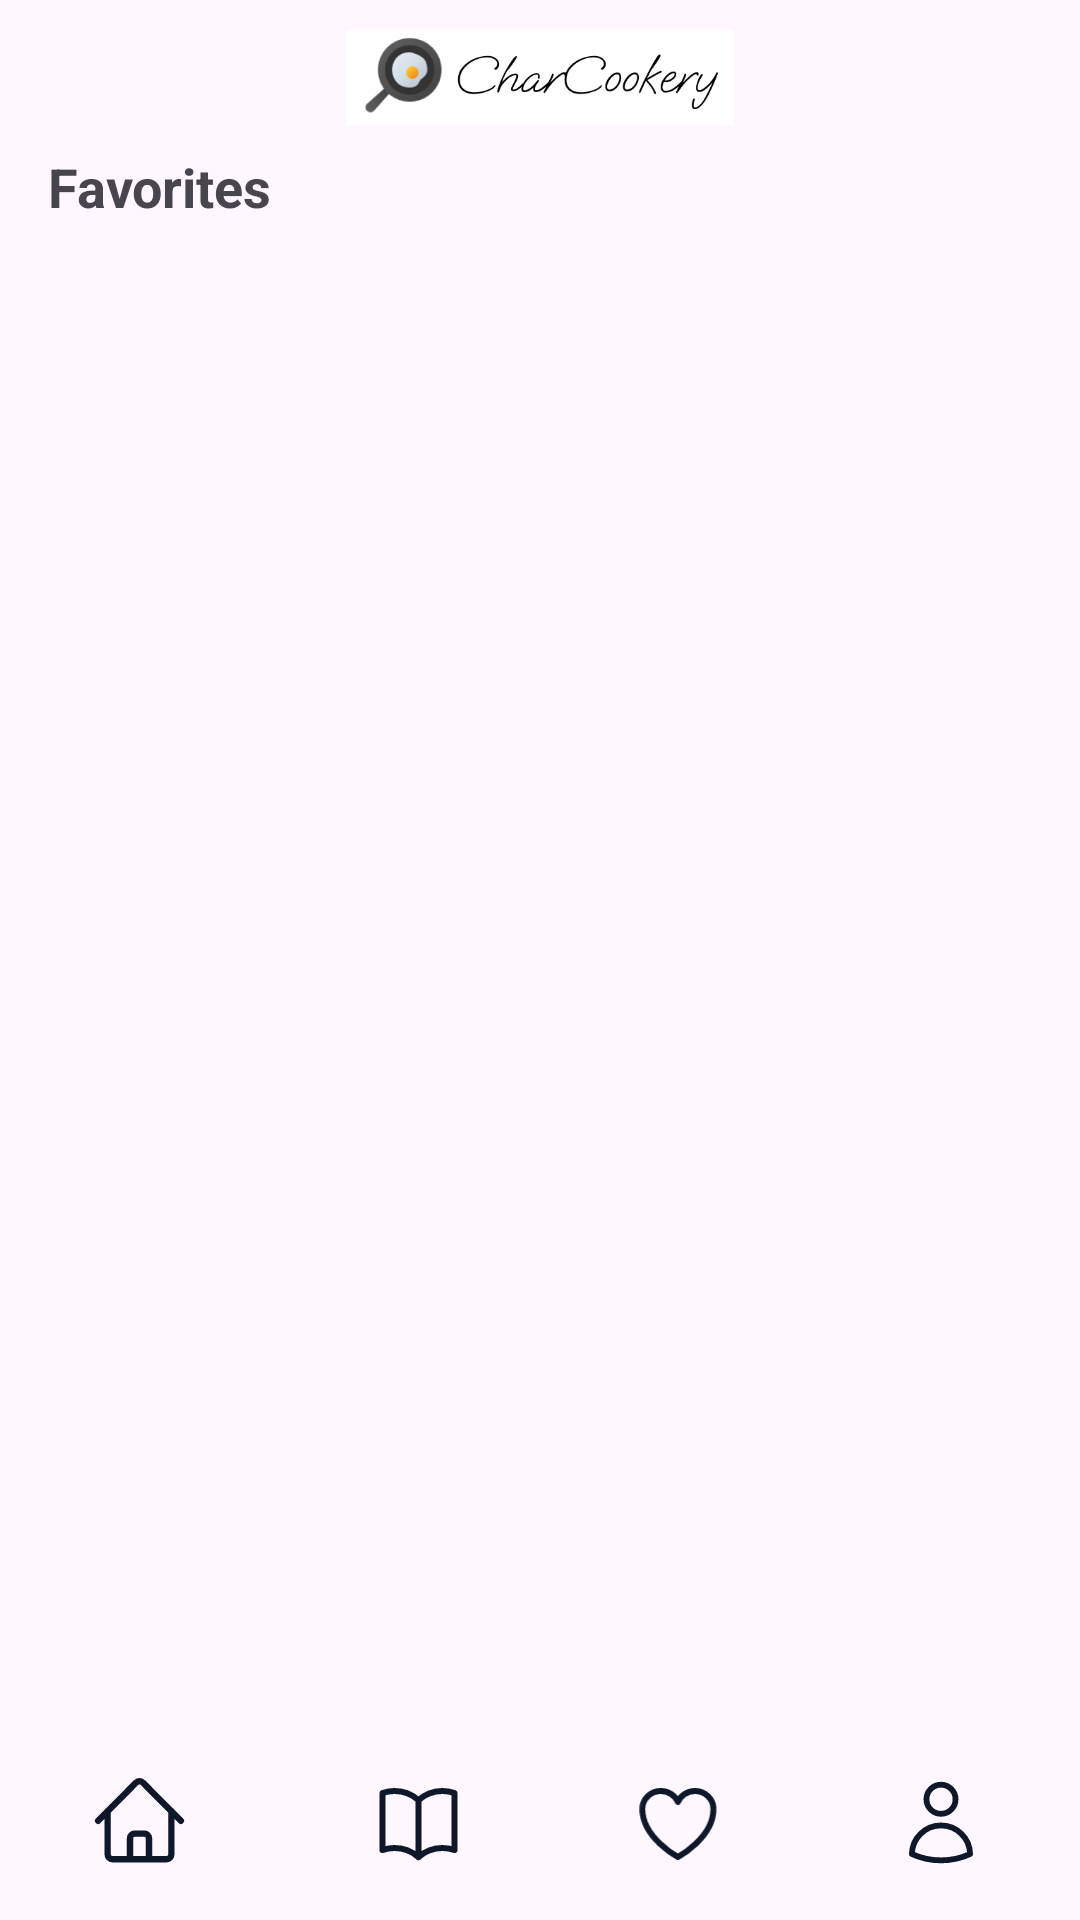

Icons on this 1080×1920 Android screen, each with its box as [x1=x1, y1=y1, x2=x2, y2=y2]:
book: [x1=379, y1=1788, x2=458, y2=1861]
heart: [x1=639, y1=1788, x2=717, y2=1860]
home: [x1=94, y1=1778, x2=185, y2=1863]
user: [x1=909, y1=1781, x2=973, y2=1864]
